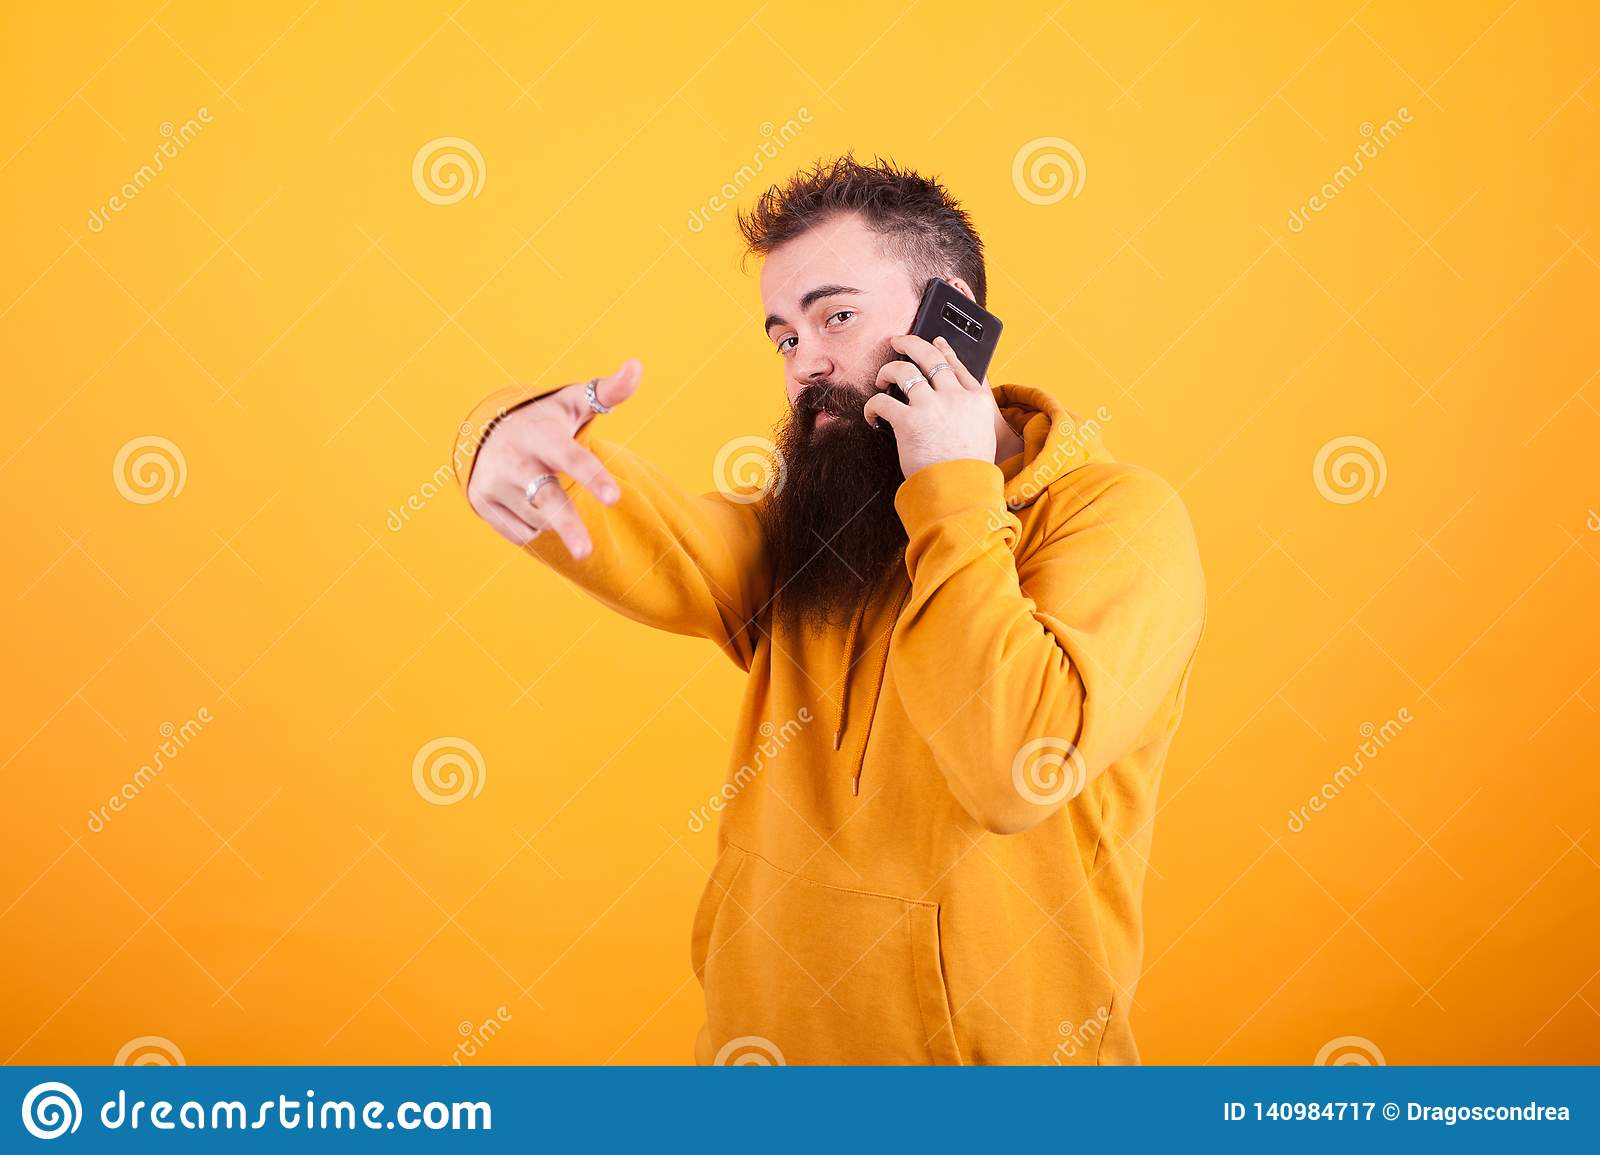phone: (872, 278, 1005, 450)
talk: (757, 278, 1002, 491)
